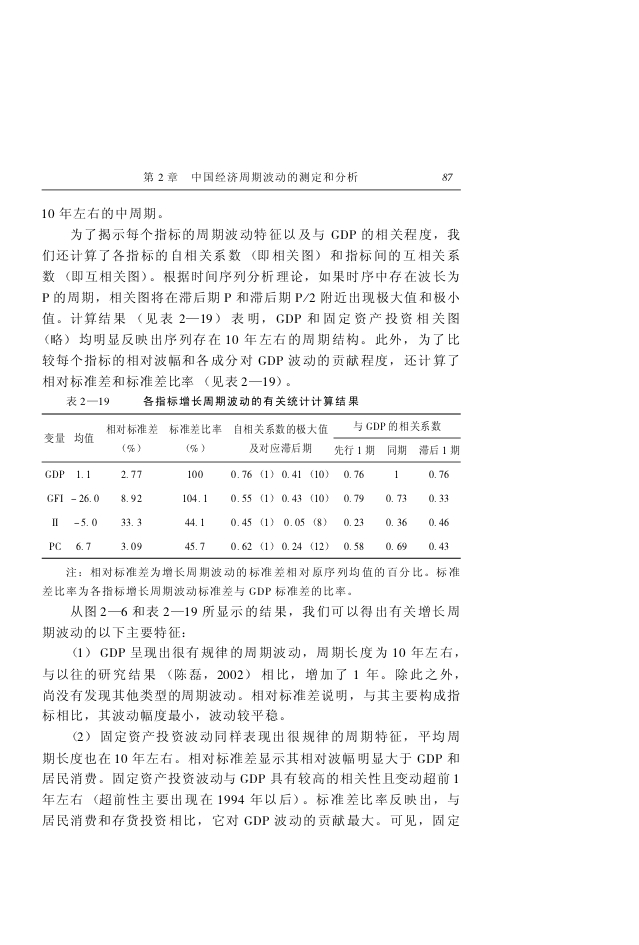table: (41, 413, 460, 559)
